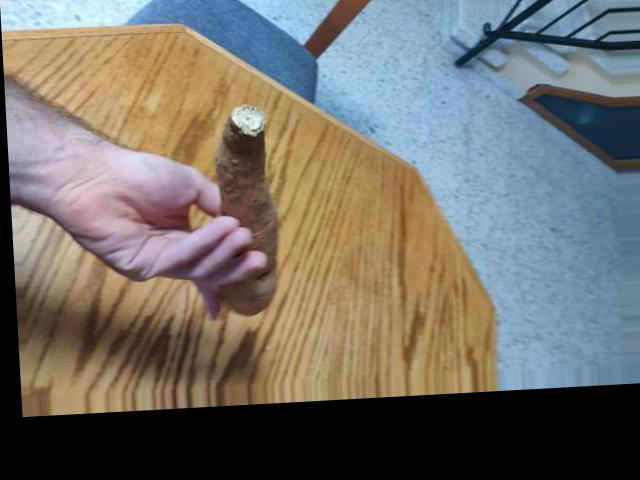sweet_potato: (201, 118, 300, 304)
